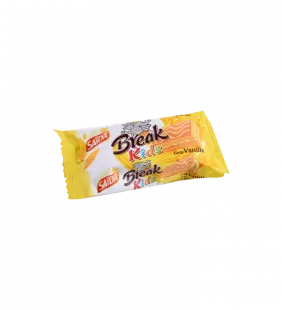BREAK KIDS: (45, 101, 236, 205)
